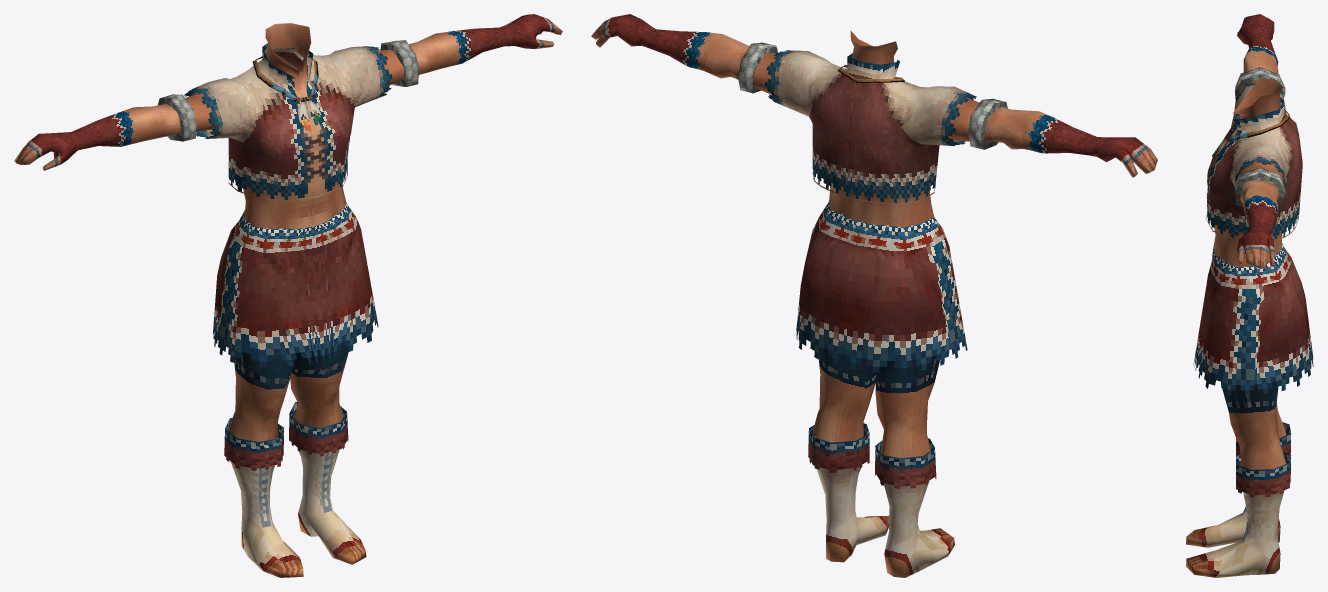
File: m_body030.obj
3 renders of one model, left to right at view 1: azimuth 30°, elevation 25°; view 2: azimuth 150°, elevation 25°; view 3: azimuth 270°, elevation 25°, orthographic. The views are drawn at different scales.
Visible parts, largest first — view 1: editpl_m-0000-23, editpl_m-0000-22, editpl_m-0000-21; view 2: editpl_m-0000-23, editpl_m-0000-22, editpl_m-0000-21; view 3: editpl_m-0000-23, editpl_m-0000-22, editpl_m-0000-21.
Part boxes in pixels (x1,y1,x2,y2): editpl_m-0000-23: [213, 203, 378, 577]; editpl_m-0000-22: [184, 23, 404, 229]; editpl_m-0000-21: [14, 14, 562, 170]; editpl_m-0000-23: [796, 202, 967, 577]; editpl_m-0000-22: [753, 30, 979, 227]; editpl_m-0000-21: [591, 14, 1157, 177]; editpl_m-0000-23: [1186, 243, 1313, 577]; editpl_m-0000-22: [1205, 77, 1302, 267]; editpl_m-0000-21: [1235, 14, 1285, 268].
Bounding box in the file's own units: 177 × 159 × 39.25.
Materials: 3 (3 with a texture image).
